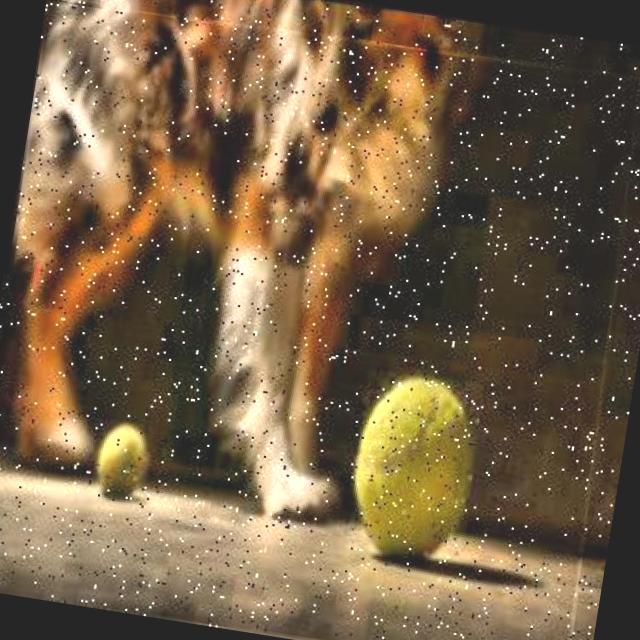Tennis Ball: (339, 364, 488, 566), (86, 416, 156, 502)
